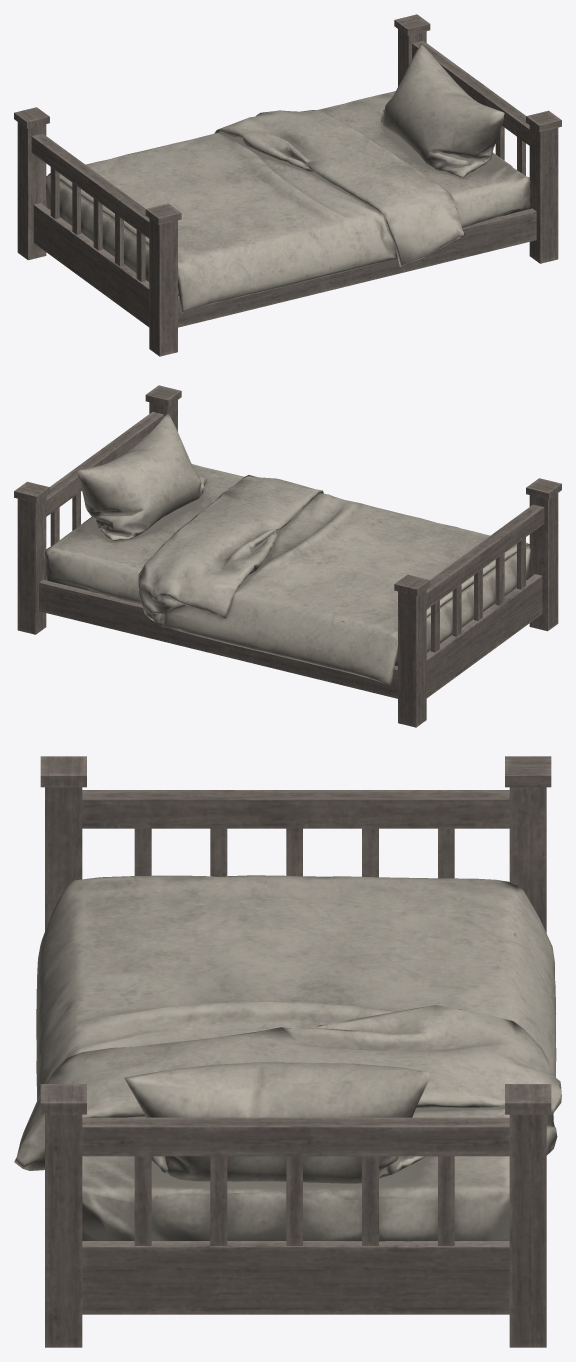
File: SM_Bed.FBX
The picture shows the model from 3 angles, top to bottom: view 1: azimuth 30°, elevation 25°; view 2: azimuth 150°, elevation 25°; view 3: azimuth 270°, elevation 25°; orthographic projection. The views are drawn at different scales.
Visible parts, largest first — view 1: SM_Bed; view 2: SM_Bed; view 3: SM_Bed.
Boxes of the visible parts, x1,y1,x2,y2 form: SM_Bed: (14,14,561,356); SM_Bed: (14,385,561,727); SM_Bed: (14,756,561,1347).
Bounding box in the file's own units: 221 × 74.7 × 148.
